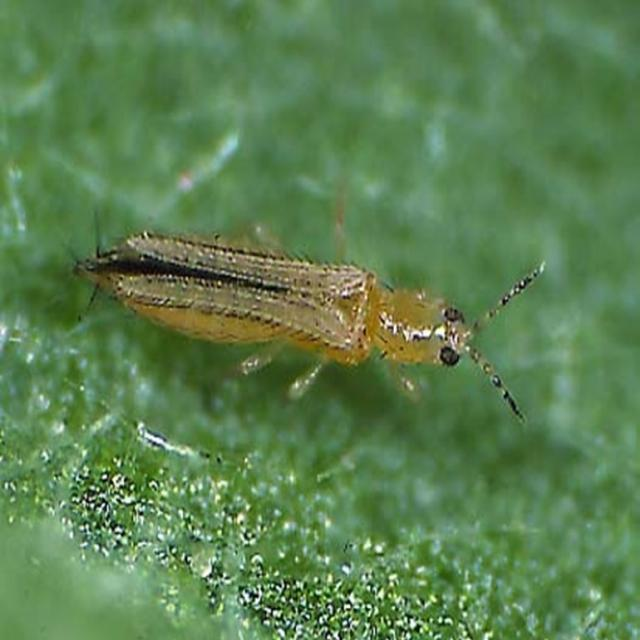Thrip-Adult-: (40, 188, 547, 440)
